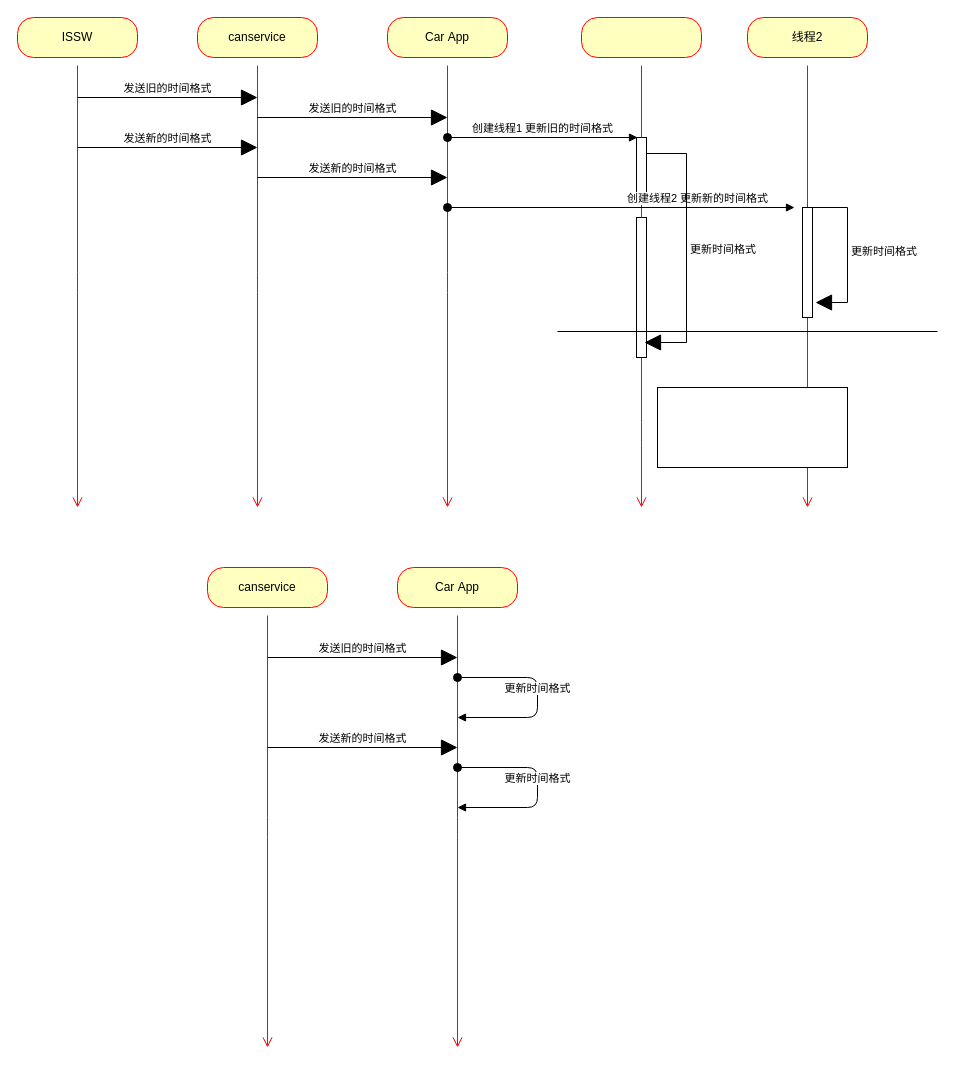
The diagram is 955 pixels wide and 1075 high, and some of its shapes have lost their labels. The centre of each missing label's shape, as x and y in pixels:
根据操作系统设计的特征， 两个线程运行速度是不可预知的， 会出现线程2先结束， 线程1后结束的情况: [752,427]
线程1: [641,37]
